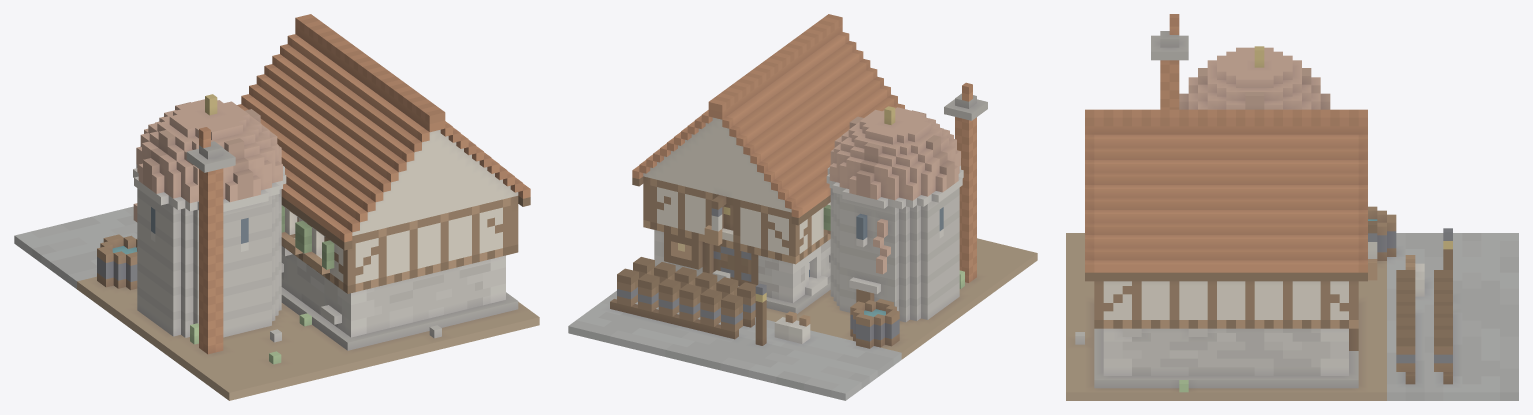
Rendered from distillery.glb.
The picture shows the model from 3 angles, left to right: view 1: azimuth 30°, elevation 25°; view 2: azimuth 150°, elevation 25°; view 3: azimuth 270°, elevation 25°; orthographic projection. The views are drawn at different scales.
Parts seen in each view (by area): view 1: distillery; view 2: distillery; view 3: distillery.
Part boxes in pixels (<box>): distillery: <box>14,14,539,400</box>; distillery: <box>568,14,1037,400</box>; distillery: <box>1066,14,1518,400</box>.
Size of the model in its own units: 5 by 3.5 by 6.
